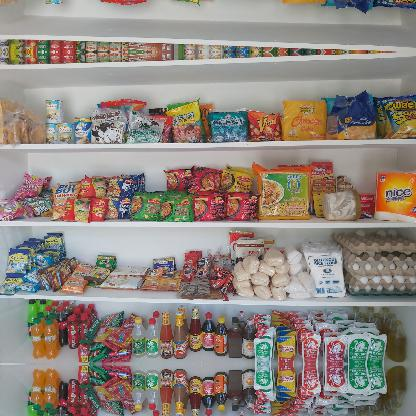Lady-s-Choice: (322, 188, 360, 220)
